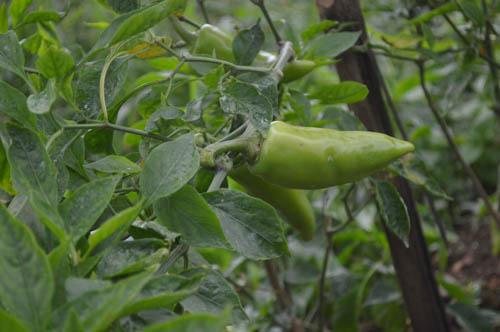ChiliPepper: (248, 123, 423, 184), (195, 24, 313, 86), (228, 158, 313, 237)
